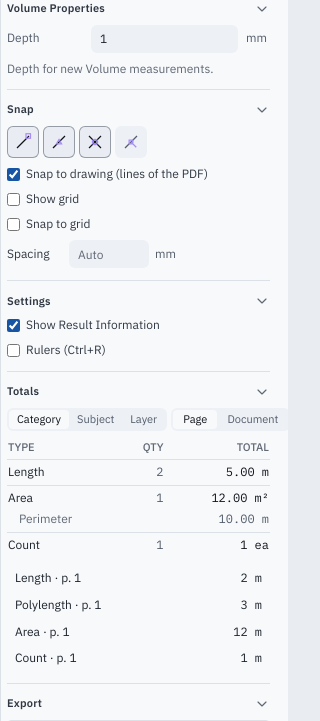
it: Espacio de trabajo (ADR-0017) › Panel de mediciones › muestra totales por tipo (longitud, área con perímetro, conteo) de la página o del documento
(page scrolled)
expect the row with test id "measurements-total-length" shows "5.00 m": met, box [226,464,269,479]
expect the row with test id "measurements-total-area" shows "12.00 m²": met, box [211,490,269,504]
Click the button with test id "measurements-scope-document".
click(253, 420)  # box [217,410,288,429]
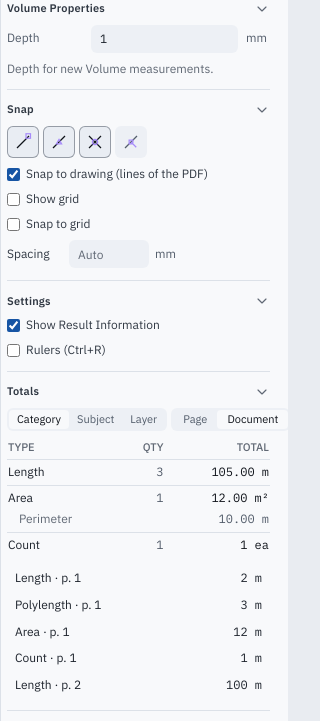
expect the row with test id "measurements-total-length" shows "105.00 m": met, box [211,464,269,479]
